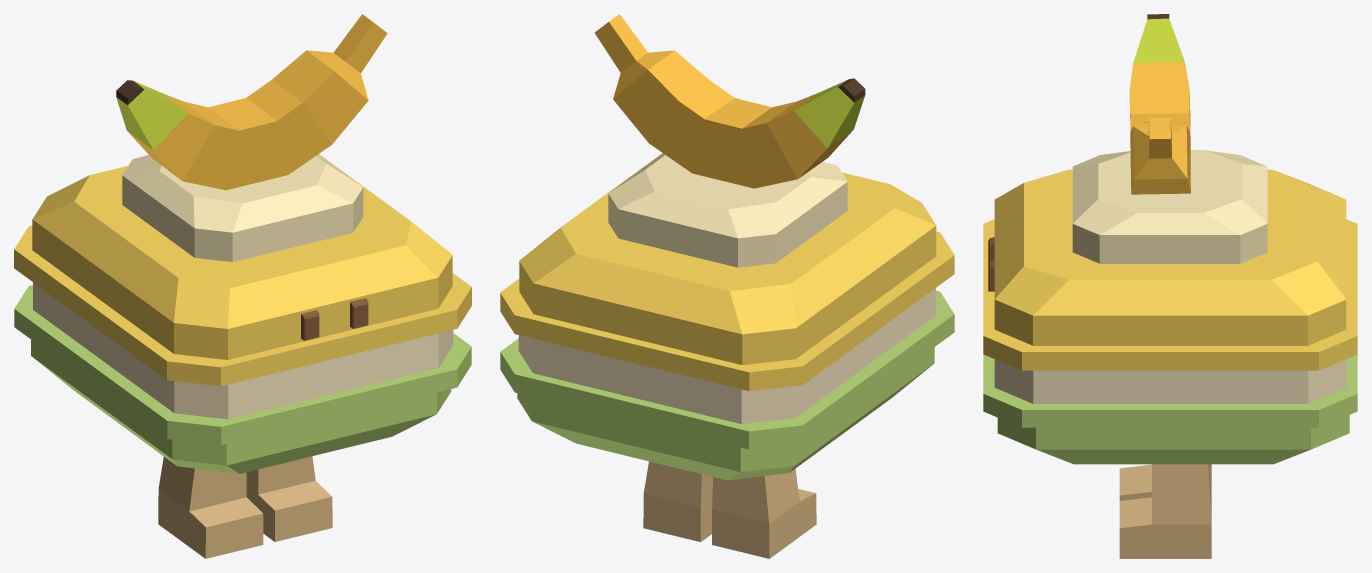
Rendered from st1_3 block.fbx.
3 renders of one model, left to right at view 1: azimuth 30°, elevation 25°; view 2: azimuth 150°, elevation 25°; view 3: azimuth 270°, elevation 25°, orthographic. The views are drawn at different scales.
Parts seen in each view (by area): view 1: st1_3_block_head, Boole_1, st1_3_block_head_ad, st1_3_block_middle, st1_3_block_L_banana, st1_3_block_R_banana_, st1_block2_L_leg, st1_block2_R_leg; view 2: st1_3_block_head, Boole_1, st1_3_block_head_ad, st1_3_block_middle, st1_3_block_L_banana, st1_3_block_R_banana_, st1_block2_L_leg, st1_block2_R_leg; view 3: st1_3_block_head, Boole_1, st1_3_block_head_ad, st1_3_block_middle, st1_block2_R_leg, st1_3_block_R_banana_, st1_3_block_L_banana, st1_block2_L_leg.
Boxes of the visible parts, x1,y1,x2,y2 form: st1_3_block_head: [14, 154, 471, 386]; Boole_1: [14, 285, 471, 473]; st1_3_block_head_ad: [122, 154, 363, 261]; st1_3_block_middle: [33, 282, 453, 419]; st1_3_block_L_banana: [228, 14, 387, 182]; st1_3_block_R_banana_: [116, 80, 258, 190]; st1_block2_L_leg: [158, 456, 263, 558]; st1_block2_R_leg: [246, 456, 332, 541]; st1_3_block_head: [500, 153, 954, 391]; Boole_1: [500, 290, 954, 480]; st1_3_block_head_ad: [608, 153, 847, 267]; st1_3_block_middle: [518, 288, 935, 423]; st1_3_block_L_banana: [594, 14, 752, 180]; st1_3_block_R_banana_: [723, 78, 865, 188]; st1_block2_L_leg: [712, 468, 816, 558]; st1_block2_R_leg: [643, 461, 712, 541]; st1_3_block_head: [983, 169, 1357, 370]; Boole_1: [983, 354, 1357, 464]; st1_3_block_head_ad: [1072, 150, 1267, 263]; st1_3_block_middle: [994, 359, 1346, 403]; st1_block2_R_leg: [1119, 464, 1211, 558]; st1_3_block_R_banana_: [1129, 14, 1190, 161]; st1_3_block_L_banana: [1130, 118, 1190, 194]; st1_block2_L_leg: [1119, 464, 1211, 500].
Size of the model in its own units: 445 by 671 by 487.
1 material, 1 textured.
